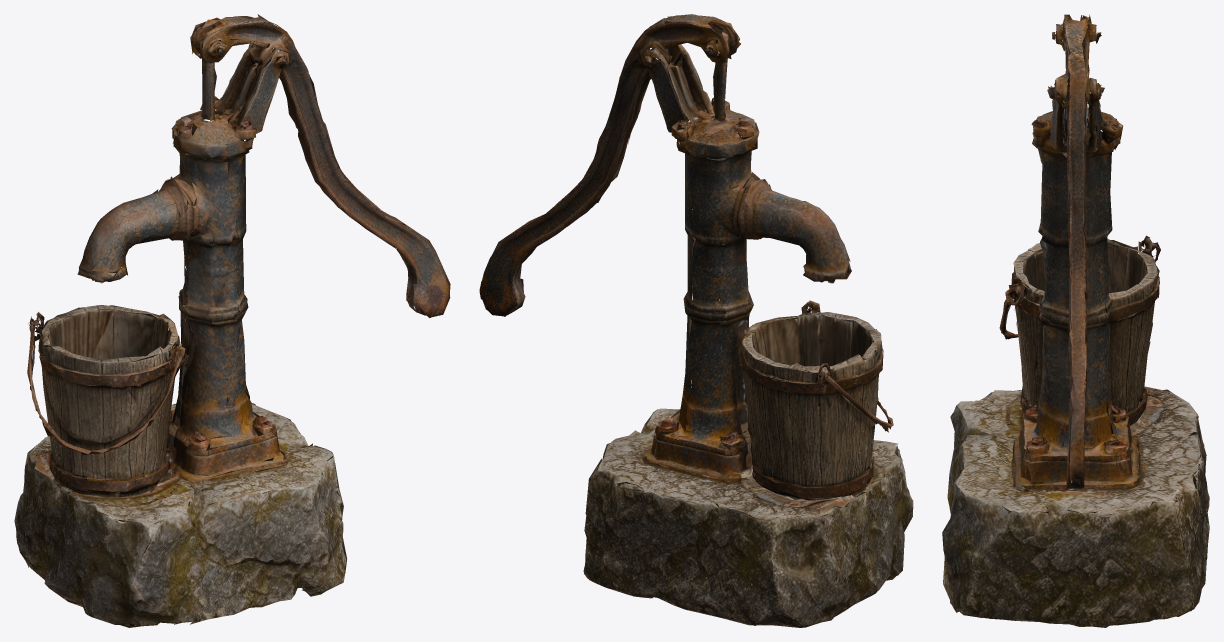
File: WaterPump.fbx
3 renders of one model, left to right at view 1: azimuth 30°, elevation 25°; view 2: azimuth 150°, elevation 25°; view 3: azimuth 270°, elevation 25°, orthographic. The views are drawn at different scales.
Parts seen in each view (by area): view 1: WaterPump; view 2: WaterPump; view 3: WaterPump.
Boxes of the visible parts, bbox=[...] form: WaterPump: bbox=[14, 14, 450, 627]; WaterPump: bbox=[479, 14, 913, 627]; WaterPump: bbox=[942, 14, 1209, 627].
Bounding box in the file's own units: 78.85 × 100 × 43.03.
1 material, 1 textured.
